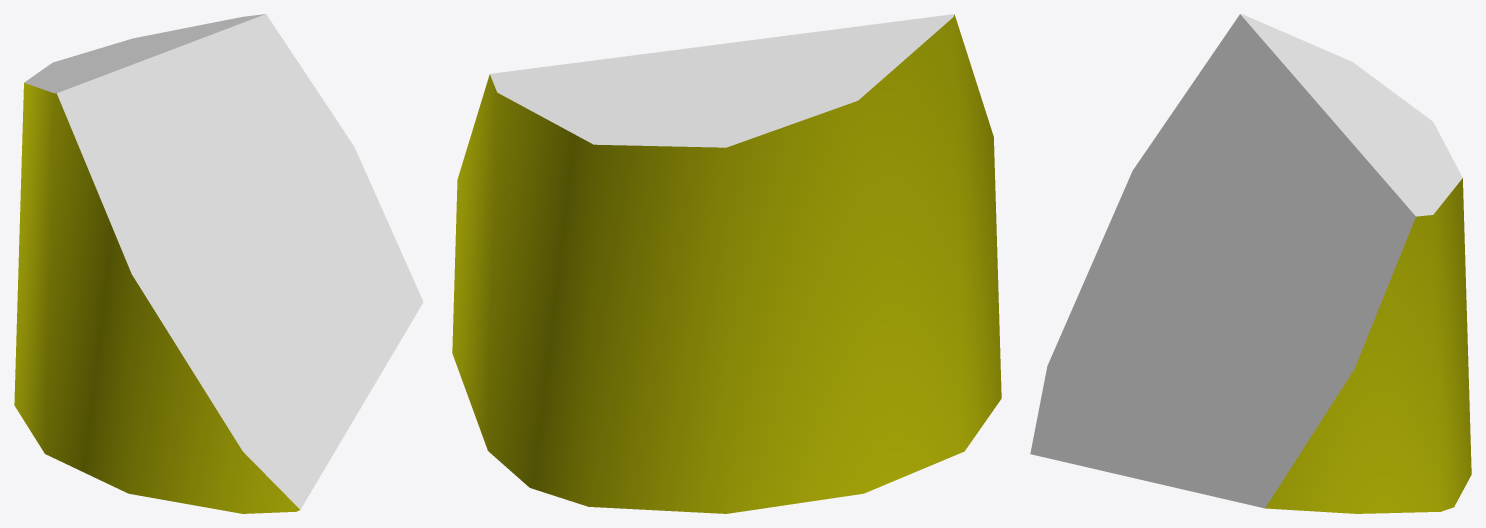
File: mdl_ciudadela_casa_pilar1_fracturepart1.fbx
3 renders of one model, left to right at view 1: azimuth 30°, elevation 25°; view 2: azimuth 150°, elevation 25°; view 3: azimuth 270°, elevation 25°, orthographic. The views are drawn at different scales.
Parts seen in each view (by area): view 1: mdl_ciudadela_casa_pilar1_fracturepart1; view 2: mdl_ciudadela_casa_pilar1_fracturepart1; view 3: mdl_ciudadela_casa_pilar1_fracturepart1.
Boxes of the visible parts, bbox=[...] form: mdl_ciudadela_casa_pilar1_fracturepart1: bbox=[14, 14, 423, 513]; mdl_ciudadela_casa_pilar1_fracturepart1: bbox=[452, 14, 1001, 513]; mdl_ciudadela_casa_pilar1_fracturepart1: bbox=[1030, 14, 1471, 513].
Bounding box in the file's own units: 0.8237 × 0.7578 × 0.8105.
